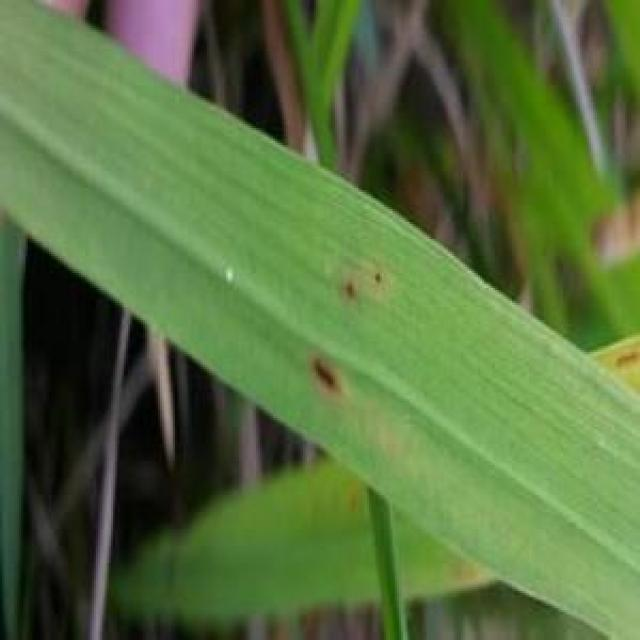brownspots: (332, 262, 410, 308), (296, 343, 354, 397)
